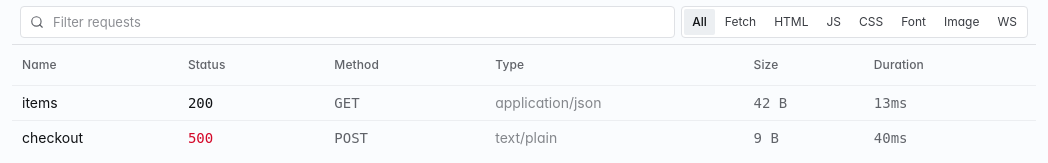
Test: NetworkTab › filters rows by URL substring via the search field
The width and height of the screenshot is (1048, 163).
Type "checkout" into the search field labelled "Filter requests" at (348, 22), box [20,6,675,38]
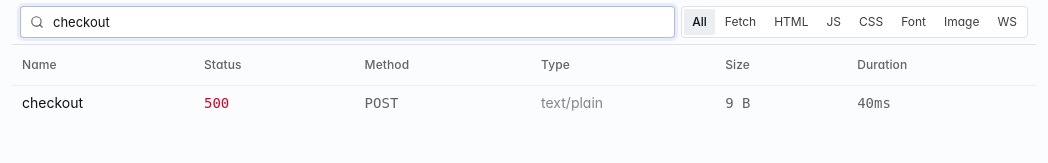
Expected: the button "checkout" is shown, [22,96,184,110]
Now the button "items" is gone
Clear the search field named "Filter requests" at (348, 22), box [20,6,675,38]
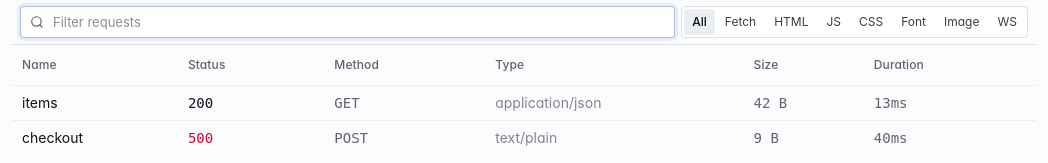
Now the button "items" is shown, box [22,96,168,110]
